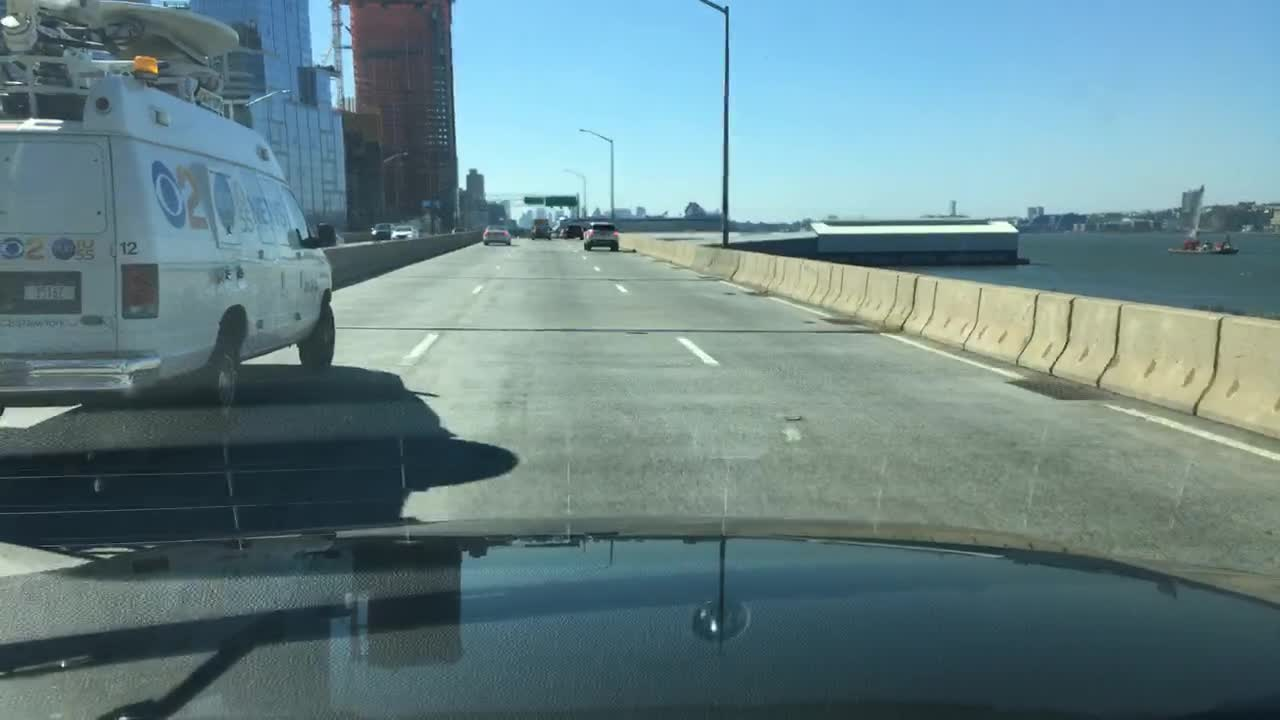car: (1, 0, 340, 425), (581, 218, 620, 251), (298, 221, 336, 247), (481, 222, 511, 243), (388, 221, 421, 240), (529, 215, 553, 238), (368, 221, 391, 242), (560, 220, 585, 238), (449, 224, 469, 237)
traffic sign: (545, 193, 580, 207), (523, 194, 544, 206)
